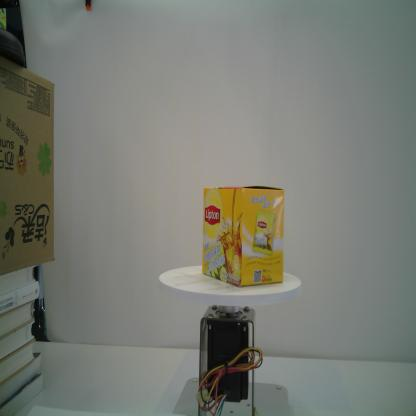Instant Drink: (200, 182, 285, 288)
